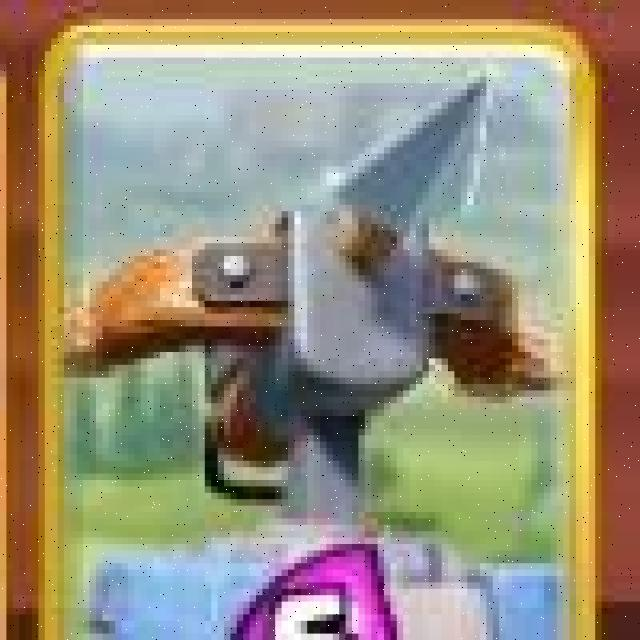X_Bow: (41, 25, 600, 640)
